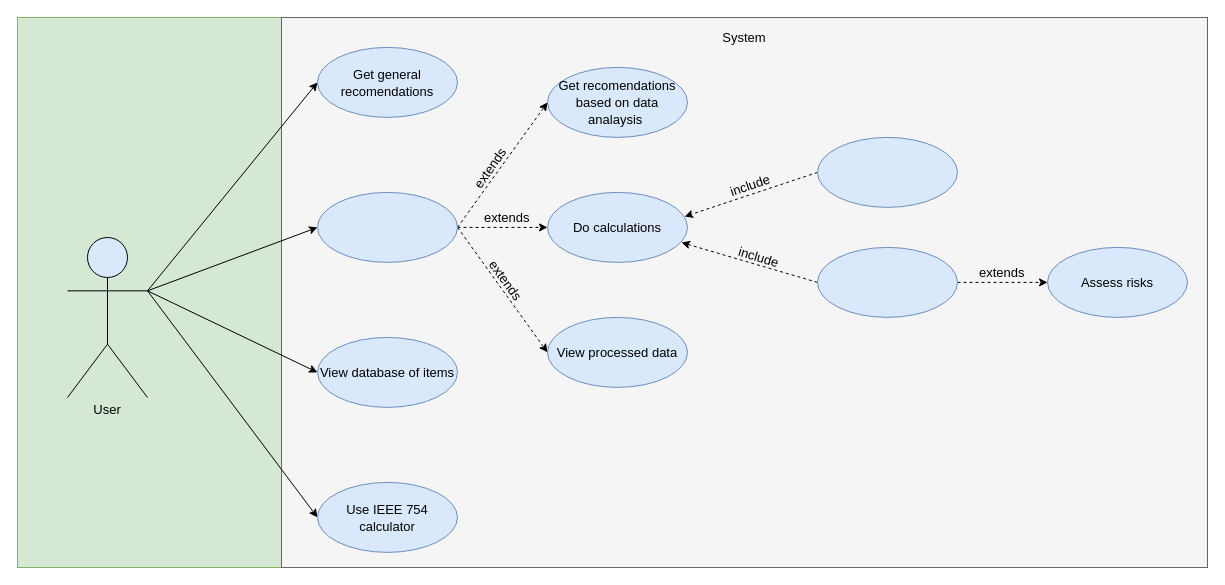
This 1225x585 diagram has some shape labels left out. The centre of each missing label's shape, as x and y in pixels:
"Enter gata" belongs at (387,226).
"Select calculation accuracy" belongs at (887,171).
"Select required item" belongs at (887,281).
